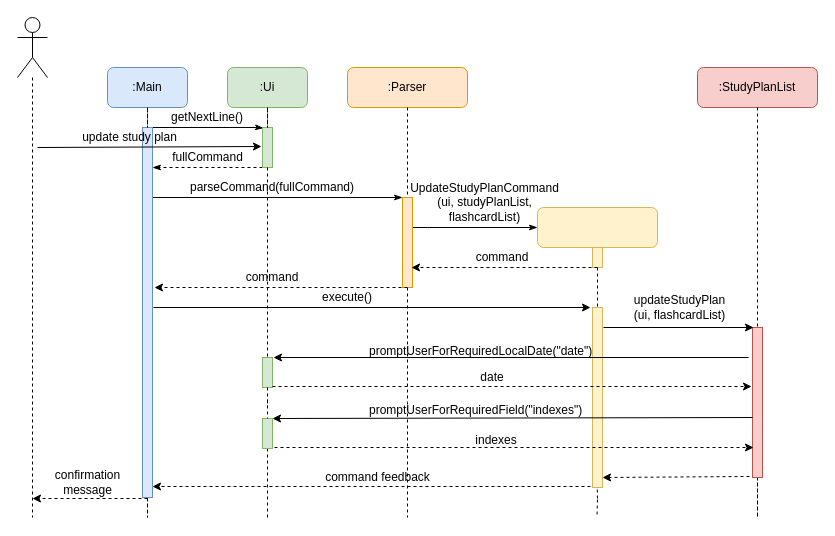
The diagram is 835 pixels wide and 536 high, and some of its shapes have lost their labels. Each missing label, with the box of its shape:
:UpdateStudyPlan Command: (536, 206, 658, 248)
Actor: (16, 16, 48, 78)
